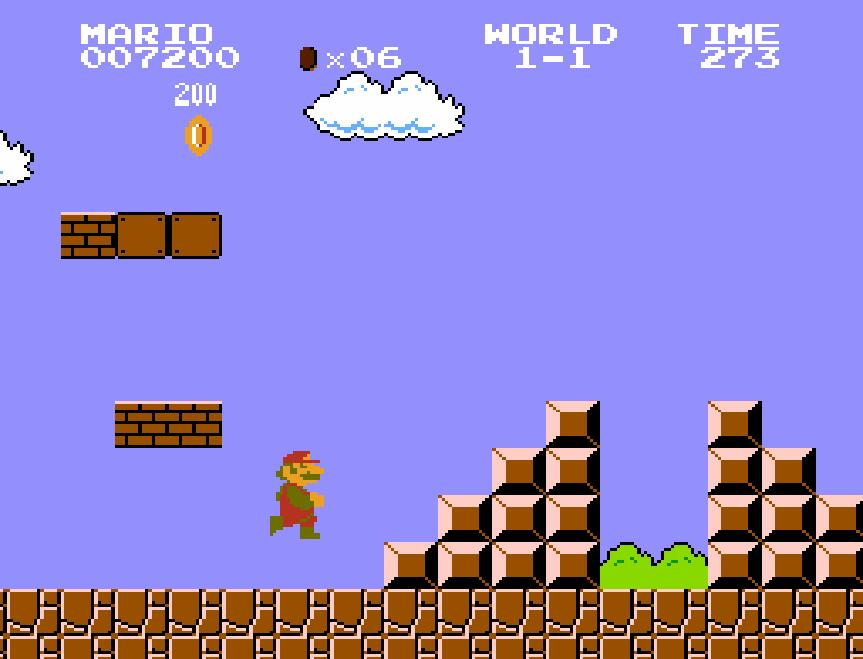big_mario: (267, 443, 325, 541)
